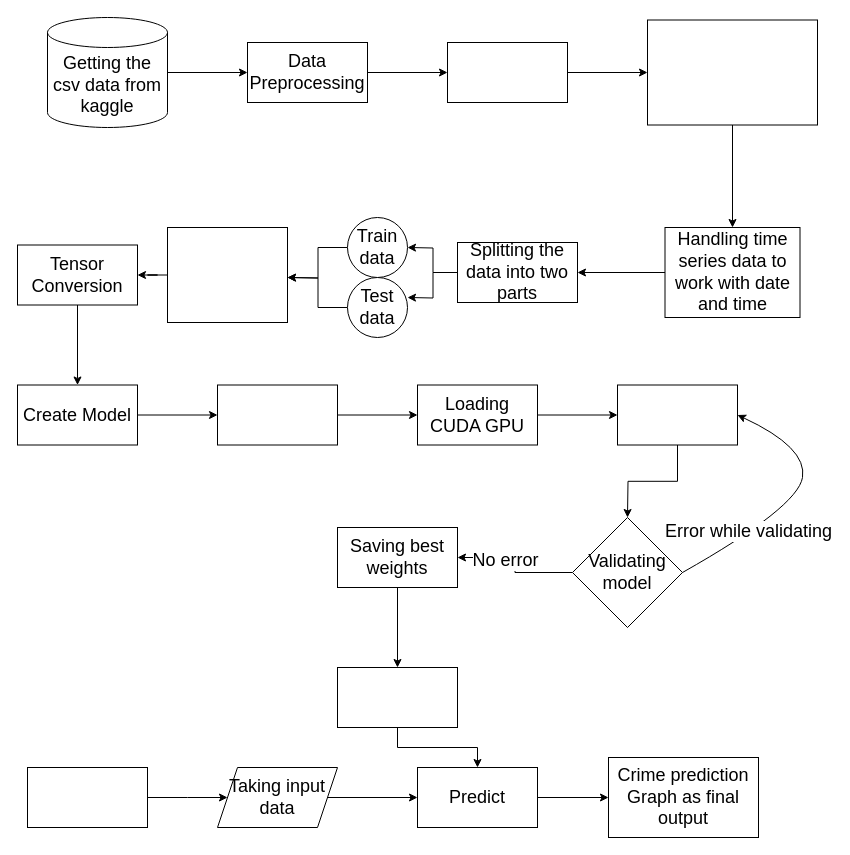
Image size: 850x855. Some labels were removed from this diagram. Each missing label, with the box of its shape:
Creating GUI using streamlit: (26, 766, 148, 828)
Defining loss function and optimizer: (216, 384, 338, 445)
Dropping null values from the dataset: (446, 42, 568, 102)
Finding correlation to find the best features: (646, 19, 818, 125)
Making prediction function: (336, 666, 458, 728)
Model training: (616, 384, 738, 445)
Noramalization process for ease in computaion: (166, 226, 288, 322)
